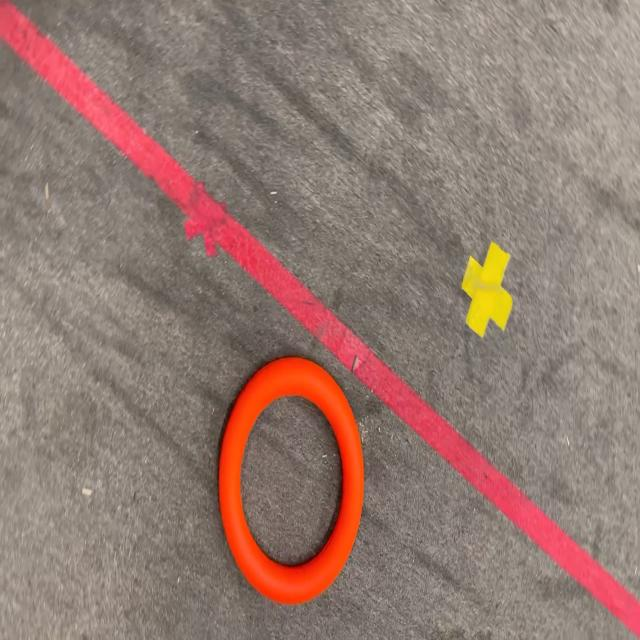note: (220, 355, 364, 603)
